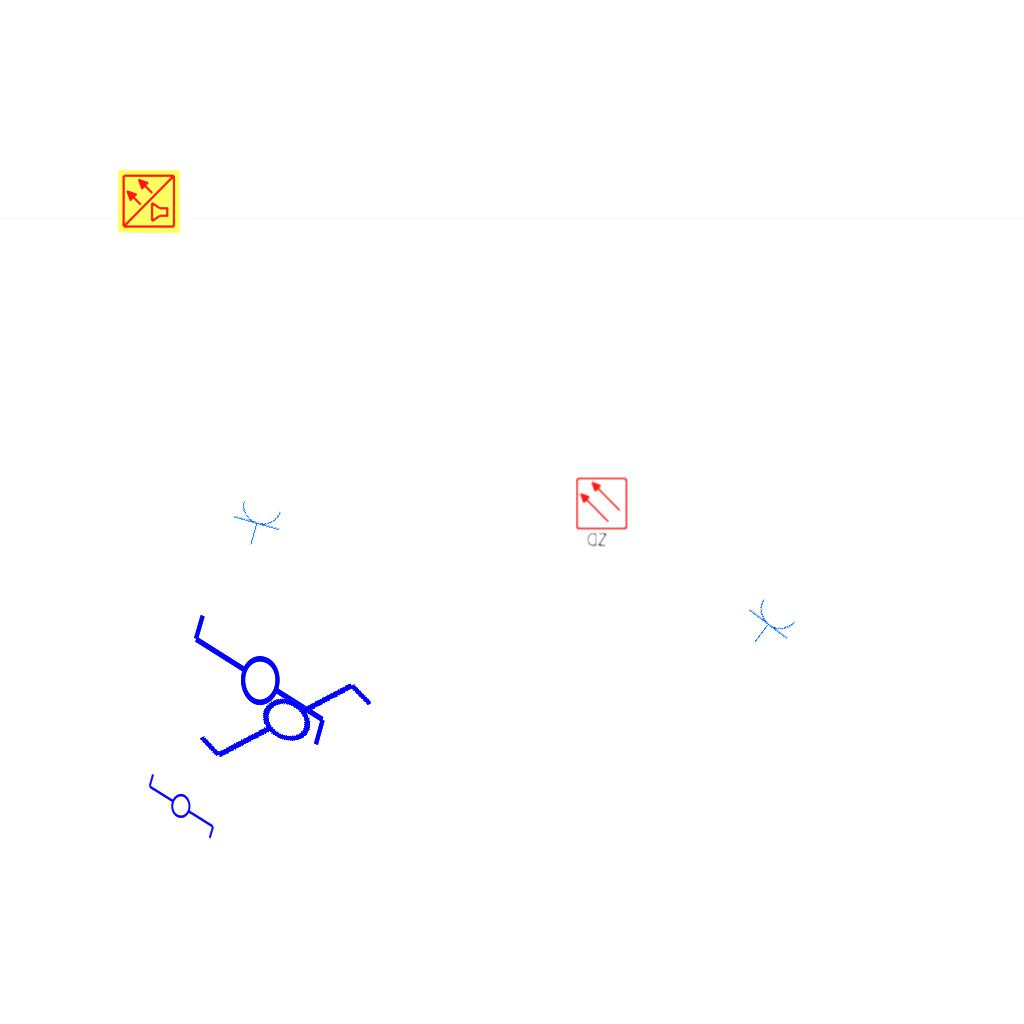OKW_Multisensormelder_(Kombination_optischer_Rauch-Kahlenmonoxid_Waerme-Melder): (116, 168, 182, 234)
Schukosteckdose_einfach: (735, 593, 801, 658), (227, 496, 287, 553)
Wechselschalter: (188, 624, 397, 828), (186, 610, 330, 767), (146, 763, 218, 841)
ZD_Melder_in_Zwischendecke_mit_Revisionsoeffnung_mind_40_x_40_cm: (574, 476, 631, 550)
